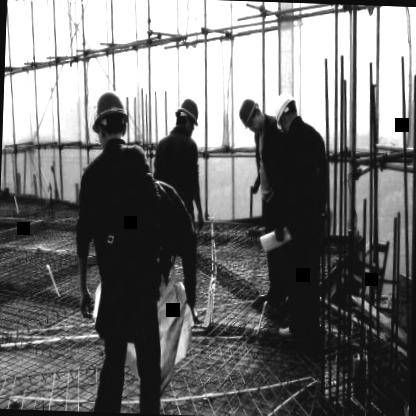helmet: (89, 86, 130, 153), (272, 90, 302, 134), (235, 99, 268, 134), (176, 94, 200, 135)
